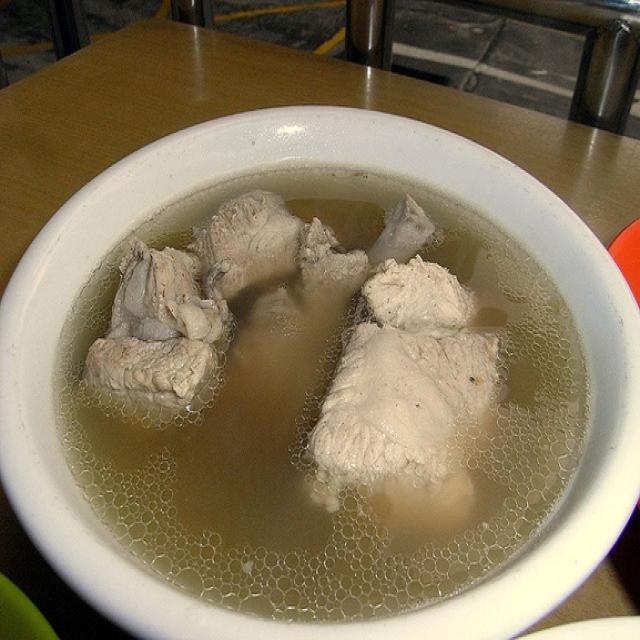汤锅炖物: (11, 108, 631, 610)
